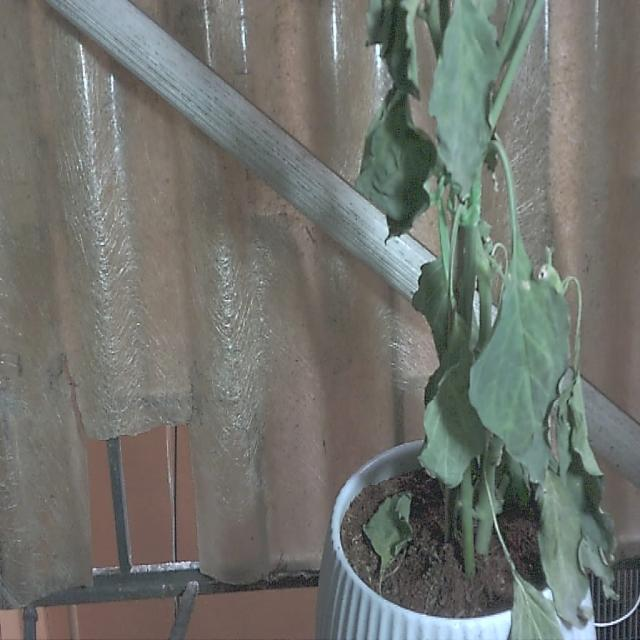Leaf: (470, 235, 569, 482), (429, 0, 501, 199), (355, 89, 436, 234), (539, 470, 588, 626), (364, 493, 412, 590), (510, 575, 561, 639)
